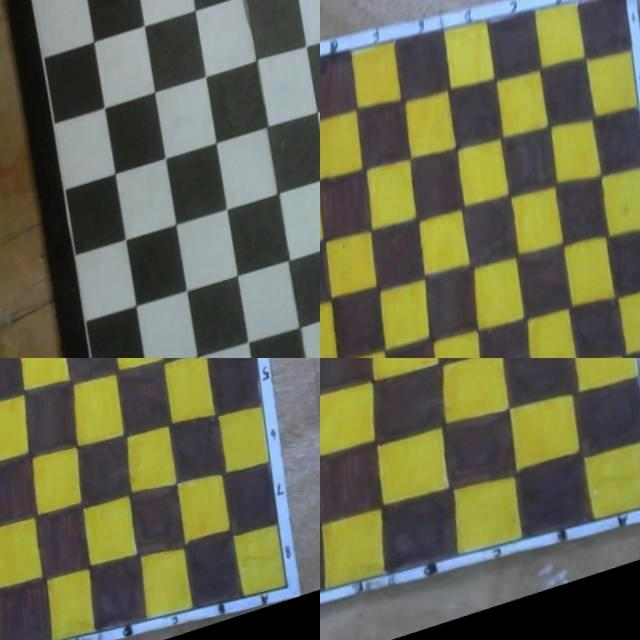chess-table-corners: (620, 0, 629, 5), (291, 594, 297, 600), (27, 0, 34, 4), (225, 358, 231, 361), (320, 70, 322, 77), (320, 358, 323, 361)
